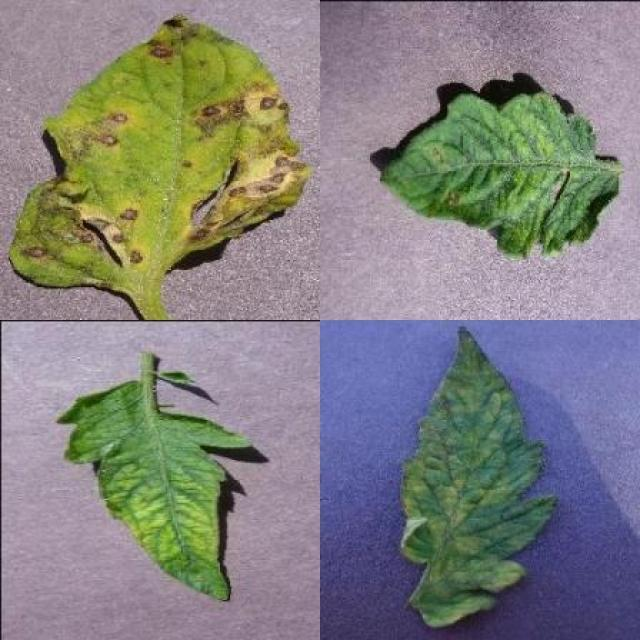Leaf Mold: (399, 324, 557, 630)
Mosaic Virus: (54, 379, 254, 604), (376, 92, 618, 258)
Septoria: (9, 12, 307, 288)
